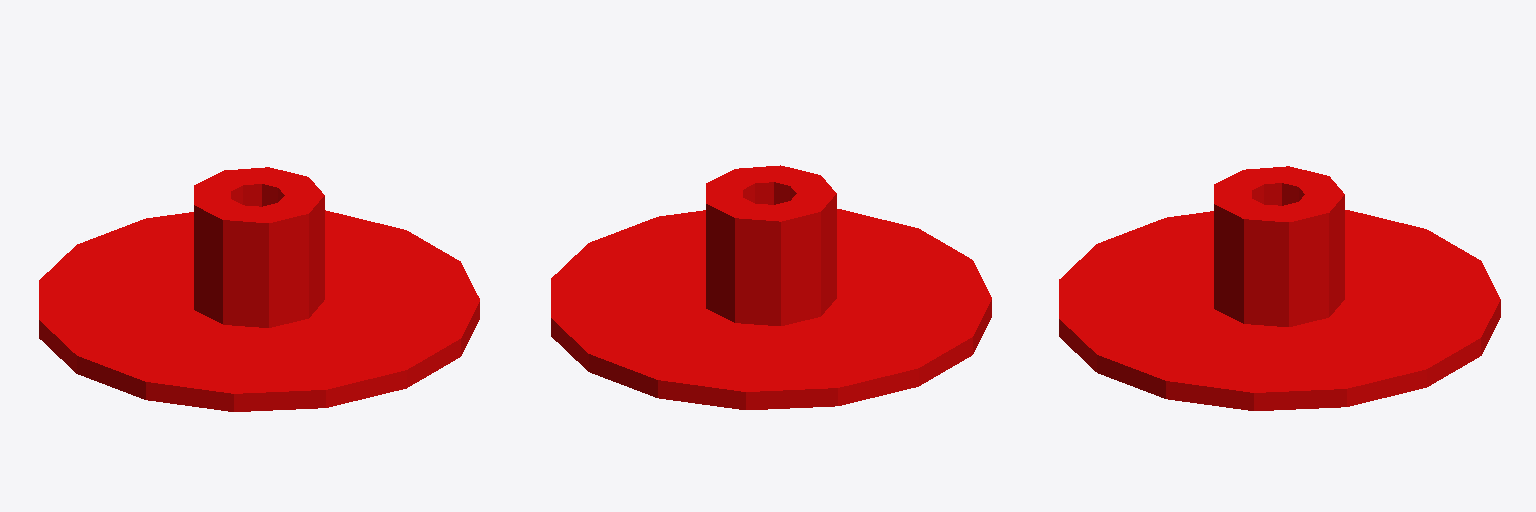
The model's file is OJB_Solid1.obj.
3 views of the same model, side by side, from view 1: azimuth 30°, elevation 25°; view 2: azimuth 150°, elevation 25°; view 3: azimuth 270°, elevation 25° (orthographic).
Parts seen in each view (by area): view 1: Solid1; view 2: Solid1; view 3: Solid1.
Boxes of the visible parts, x1=… form: Solid1: x1=39, y1=167, x2=479, y2=411; Solid1: x1=551, y1=165, x2=991, y2=409; Solid1: x1=1059, y1=166, x2=1500, y2=410.
Size of the model in its own units: 48.08 by 14.72 by 47.81.